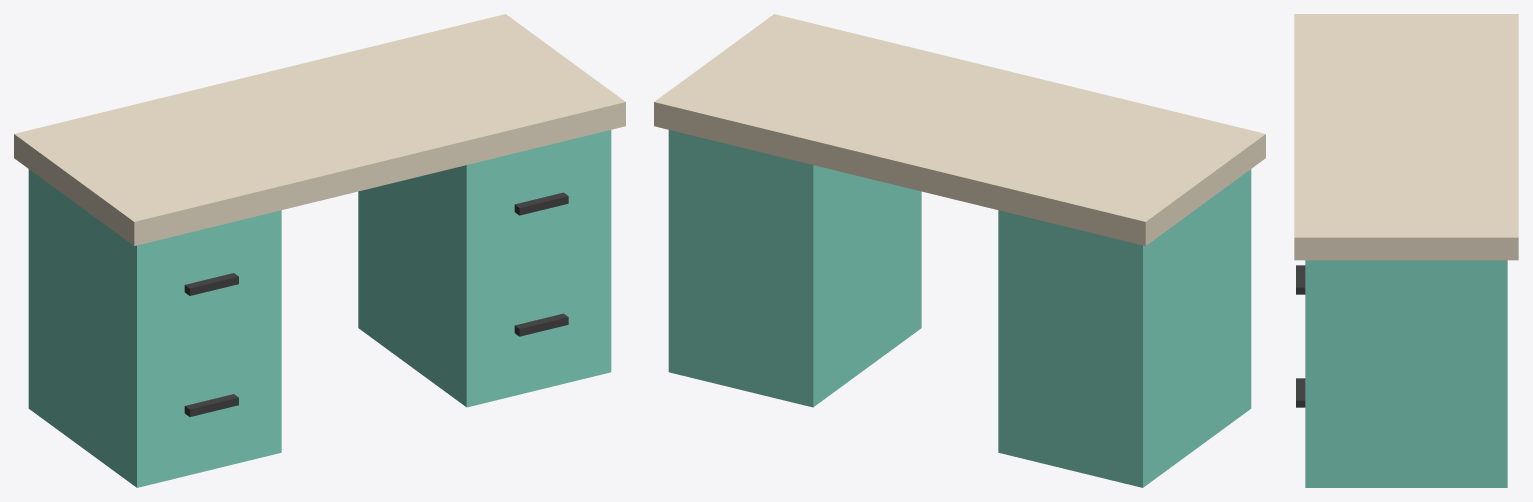
3 renders of one model, left to right at view 1: azimuth 30°, elevation 25°; view 2: azimuth 150°, elevation 25°; view 3: azimuth 270°, elevation 25°, orthographic. The views are drawn at different scales.
Visible parts, largest first — view 1: Worktop, Storage module, Storage module.001, Handle.003, Handle, Handle.001, Handle.002; view 2: Worktop, Storage module, Storage module.001; view 3: Worktop, Storage module.001, Handle.002, Handle.003.
Boxes of the visible parts, x1,y1,x2,y2 form: Worktop: (14,14,625,245); Storage module: (28,169,281,487); Storage module.001: (358,130,611,407); Handle.003: (514,192,568,215); Handle: (184,394,238,416); Handle.001: (184,273,238,295); Handle.002: (514,313,568,336); Worktop: (654,14,1265,245); Storage module: (998,169,1251,487); Storage module.001: (668,130,921,407); Worktop: (1294,14,1518,260); Storage module.001: (1305,260,1507,487); Handle.002: (1296,378,1305,407); Handle.003: (1296,265,1305,294).
Bounding box in the file's own units: 170 × 90 × 72.
